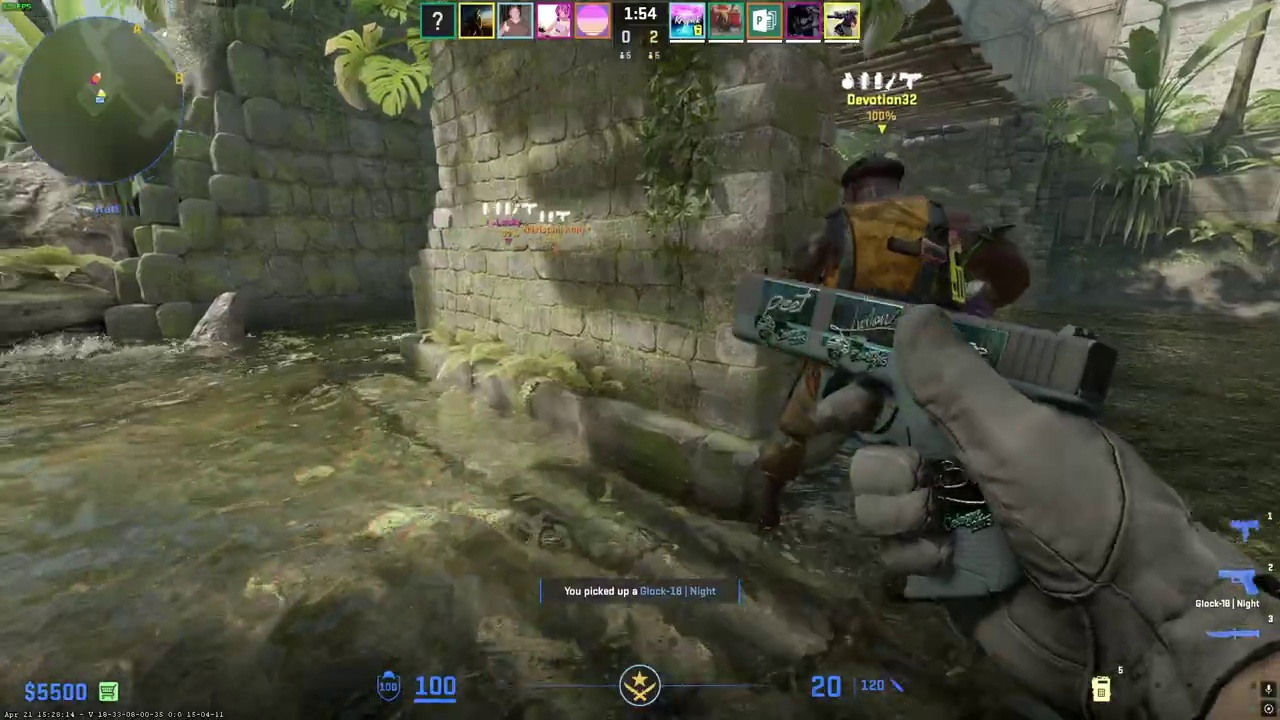Terrorist: (772, 155, 969, 437)
